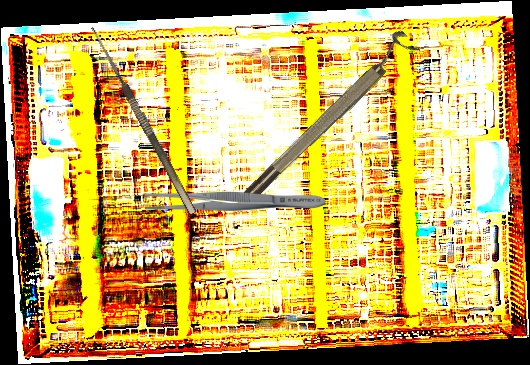Dressing Forceps: (145, 190, 325, 213)
Fixation Ring: (233, 27, 421, 206)
Hook Surgical: (79, 24, 197, 221)
